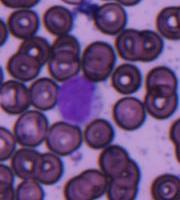L: (56, 72, 102, 126)
